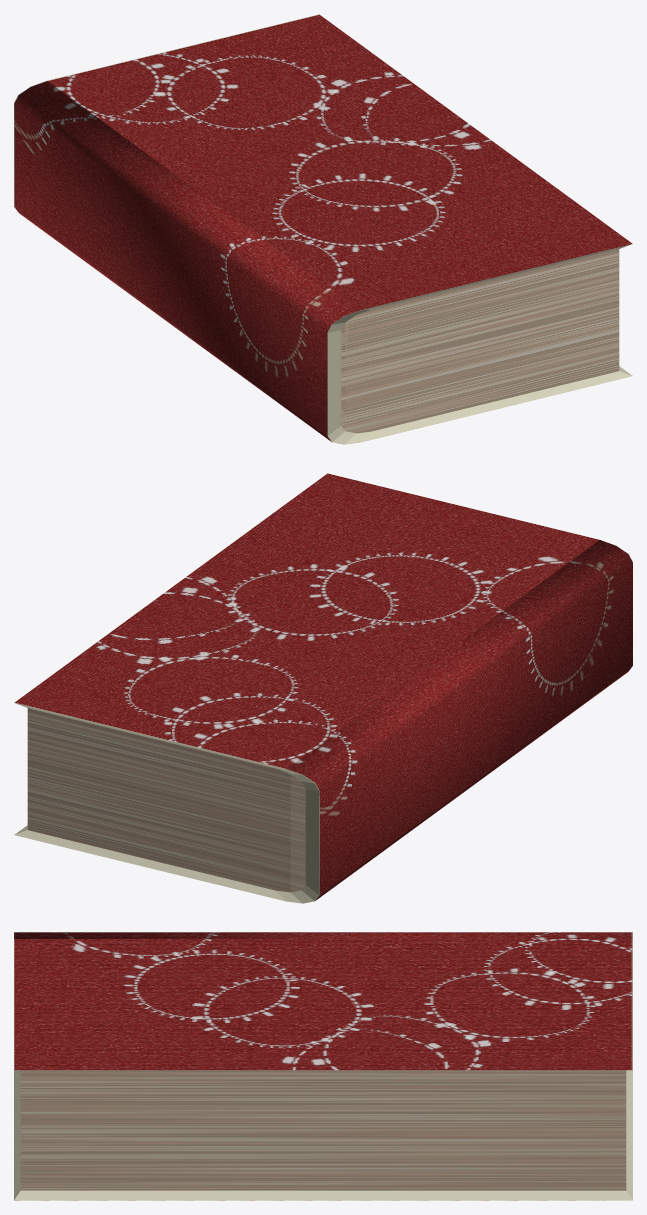
Rendered from Book.003.5.fbx.
3 renders of one model, top to bottom at view 1: azimuth 30°, elevation 25°; view 2: azimuth 150°, elevation 25°; view 3: azimuth 270°, elevation 25°, orthographic.
Parts seen in each view (by area): view 1: Book.003; view 2: Book.003; view 3: Book.003.
Part boxes in pixels (<box>): Book.003: <box>14,14,632,444</box>; Book.003: <box>14,473,632,903</box>; Book.003: <box>14,932,632,1200</box>.
Size of the model in its own units: 172 by 70.98 by 305.
1 material, 1 textured.
